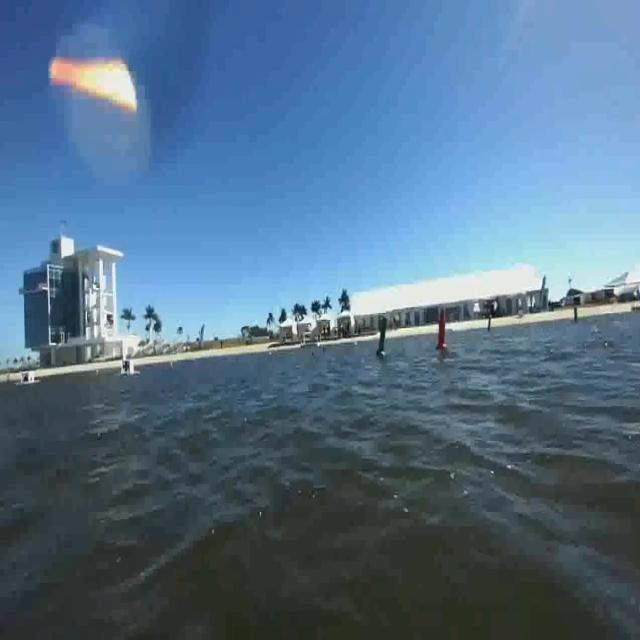green-column-buoy: (377, 316, 390, 358)
red-column-buoy: (435, 311, 448, 354)
